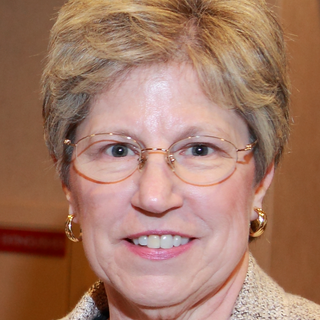eye: (98, 139, 143, 164), (177, 139, 222, 163)
